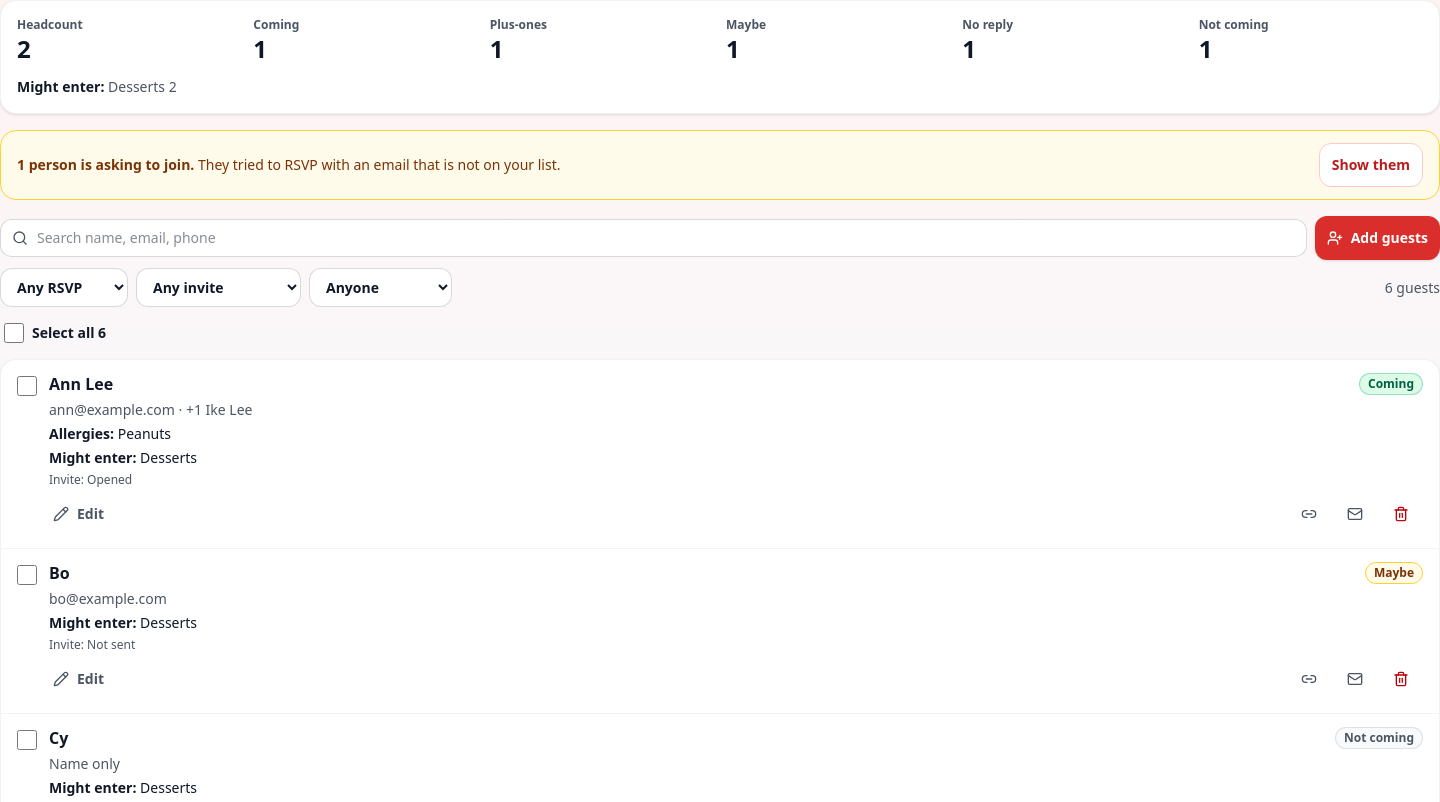
it: GuestsTab › shows a personal link to copy
Click the button named "RSVP link for Bo" at (1309, 679), box [1287,657,1331,701]
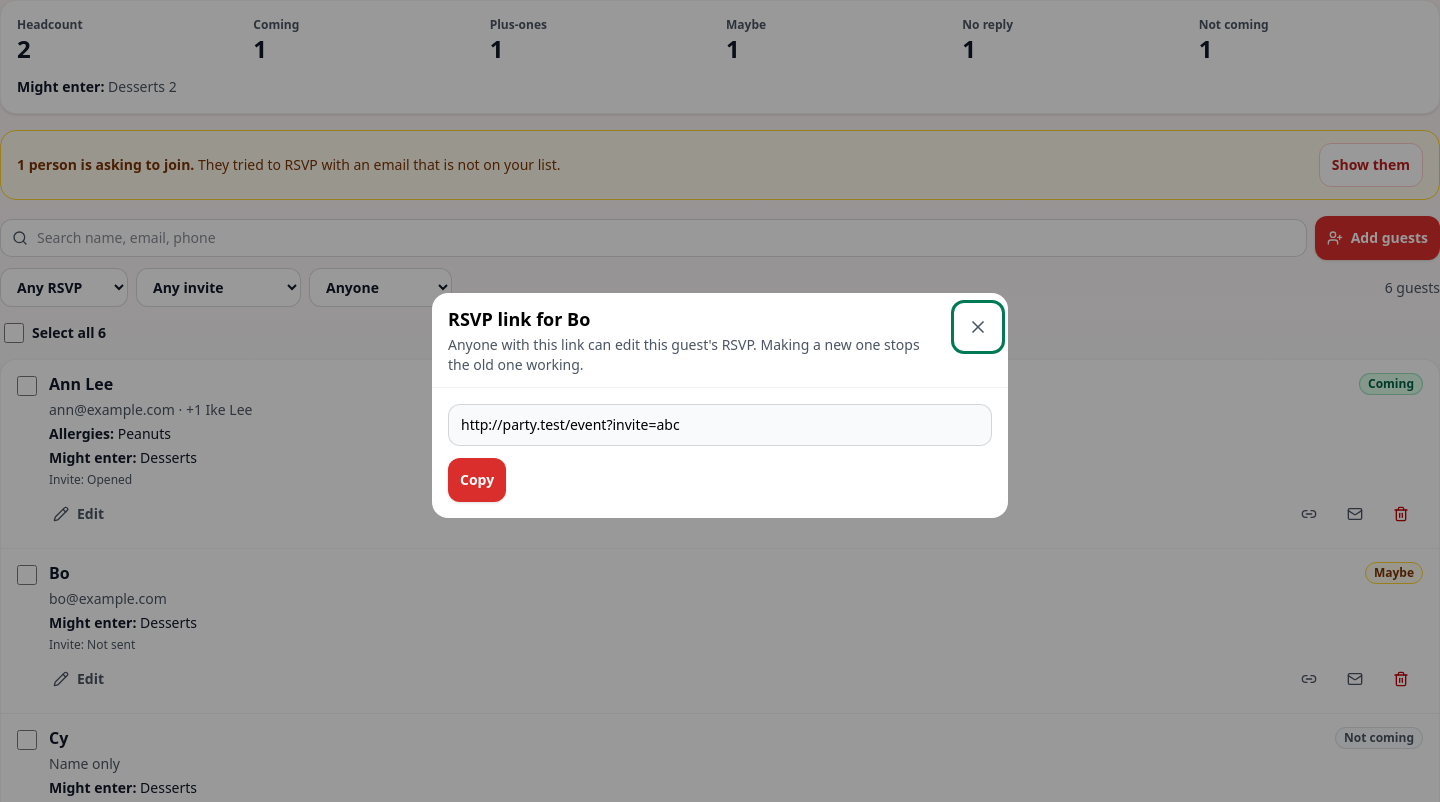
Check: the field showing "http://party.test/event?invite=abc" is shown, box [448,404,992,446]
